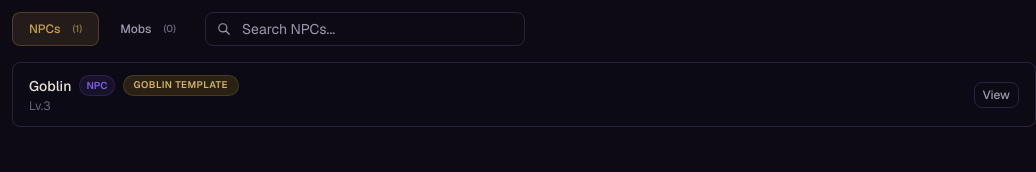
NpcsMobsSection › shows no mobs empty state on mob tab when no mobs exist
The image size is (1036, 172).
Expected: the text "Goblin" is shown, [29,76,71,96]
// Switch to Mobs tab
Click the button "Mobs (0)" at (148, 29), box [103,12,193,46]
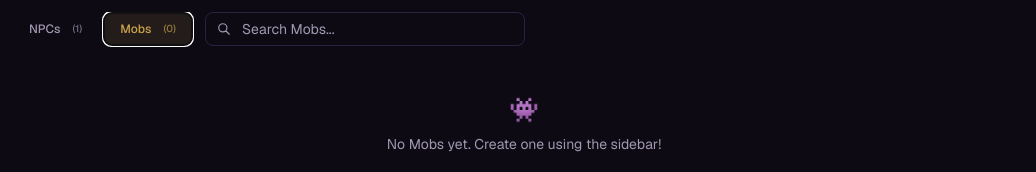
Expected: the text "No Mobs yet. Create one using the sidebar!" is shown, [387,135,661,153]
